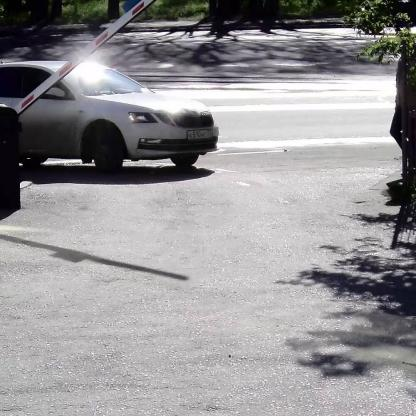plate: (186, 128, 213, 141)
